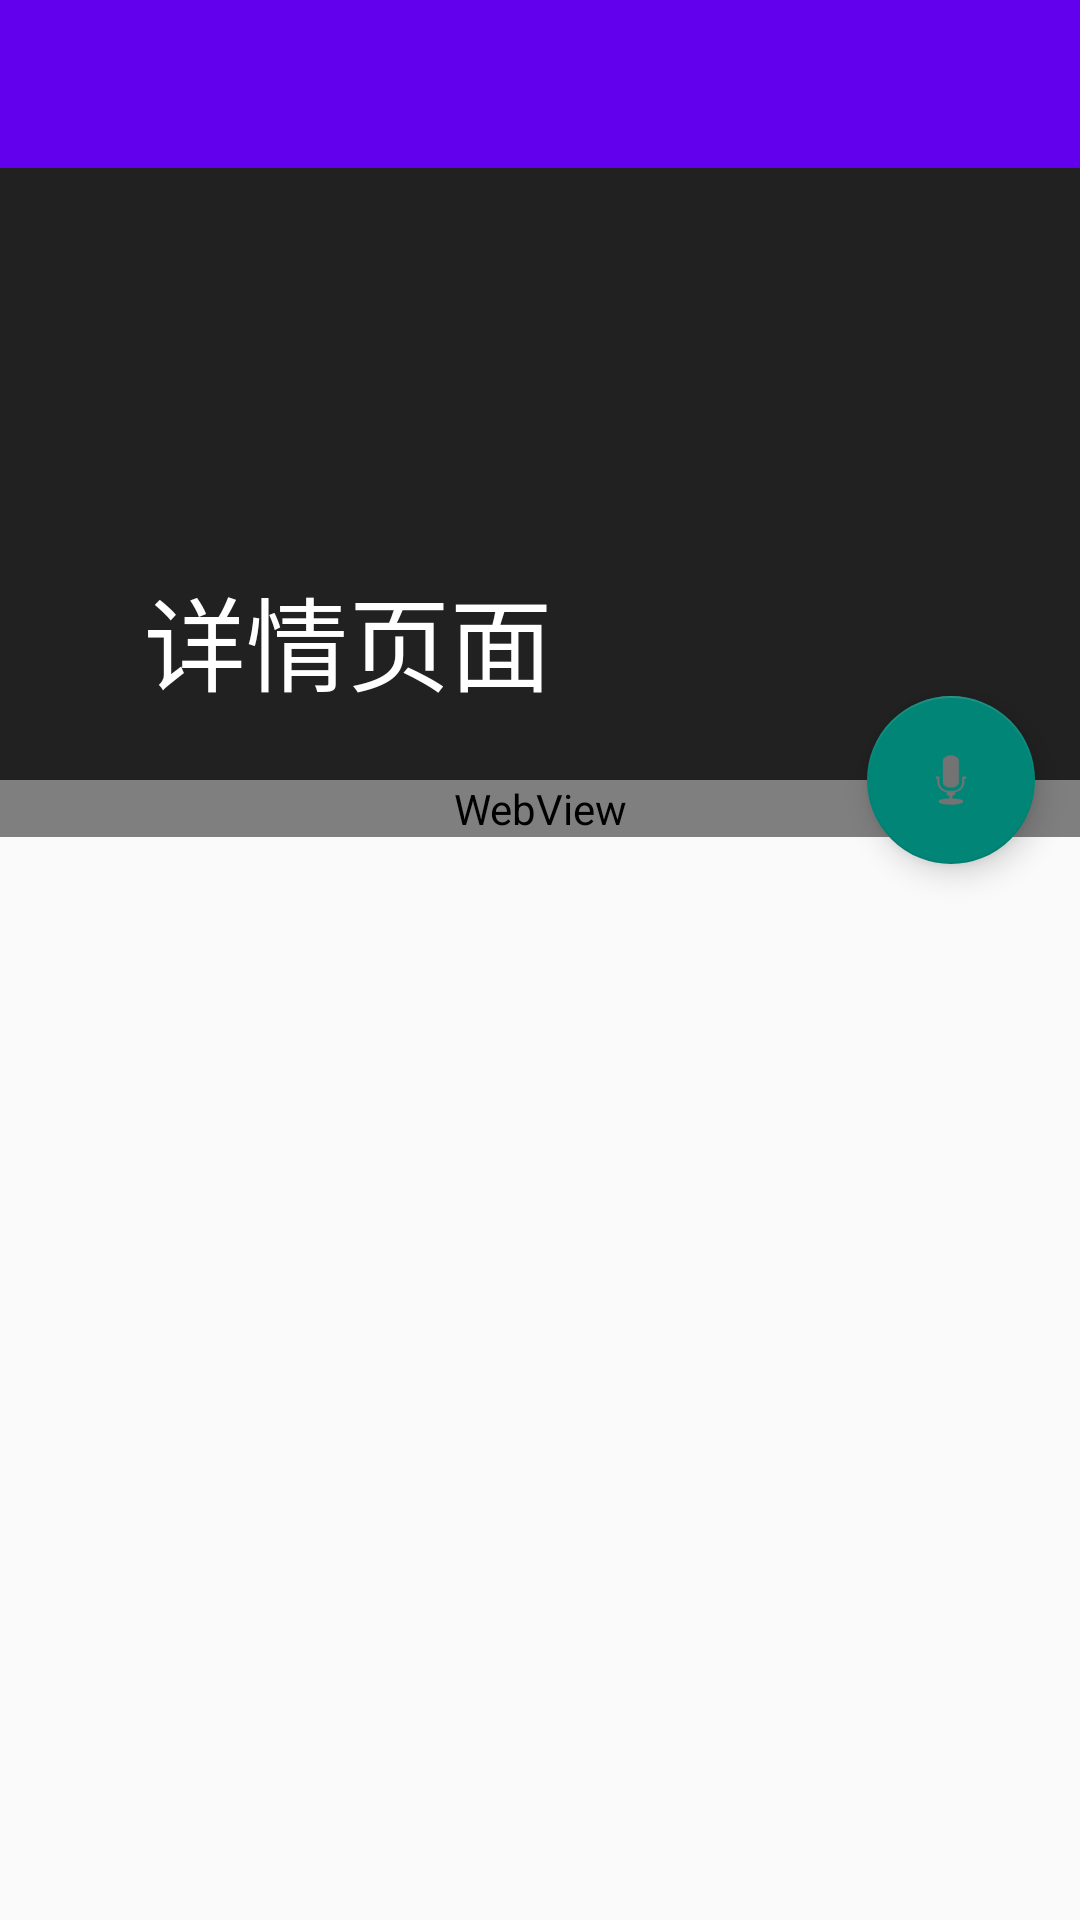

Point at icon controls on the screen. Image size 1080 x 1920, points as (x=x, y=y).
speak now: (x=951, y=780)
